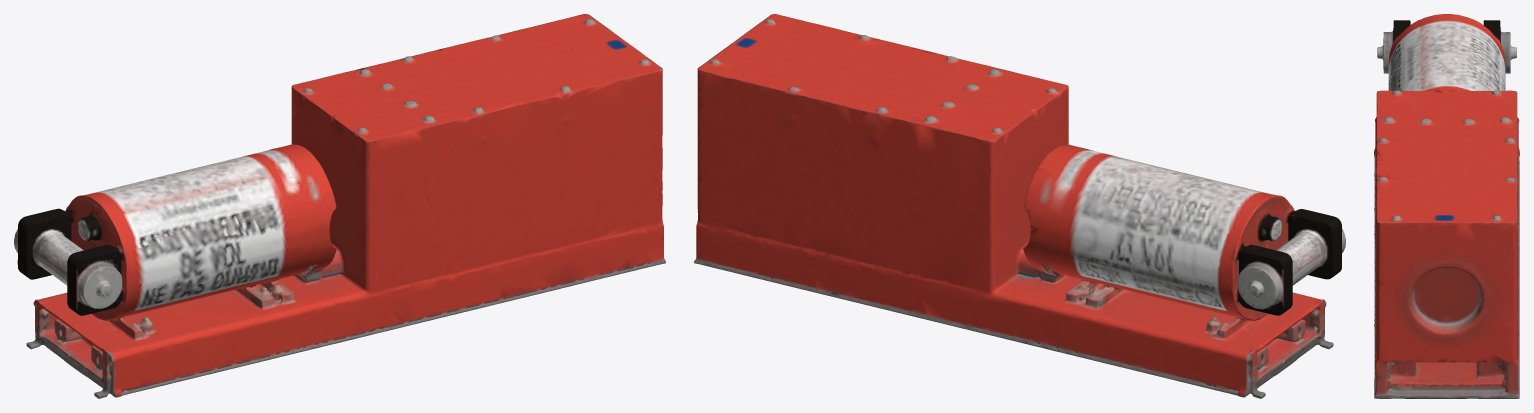
The model's file is caixa-preta.glb.
3 renders of one model, left to right at view 1: azimuth 30°, elevation 25°; view 2: azimuth 150°, elevation 25°; view 3: azimuth 270°, elevation 25°, orthographic. The views are drawn at different scales.
Bounding box in the file's own units: 1.9 × 0.619 × 0.4551.
Materials: 1 (1 with a texture image).
